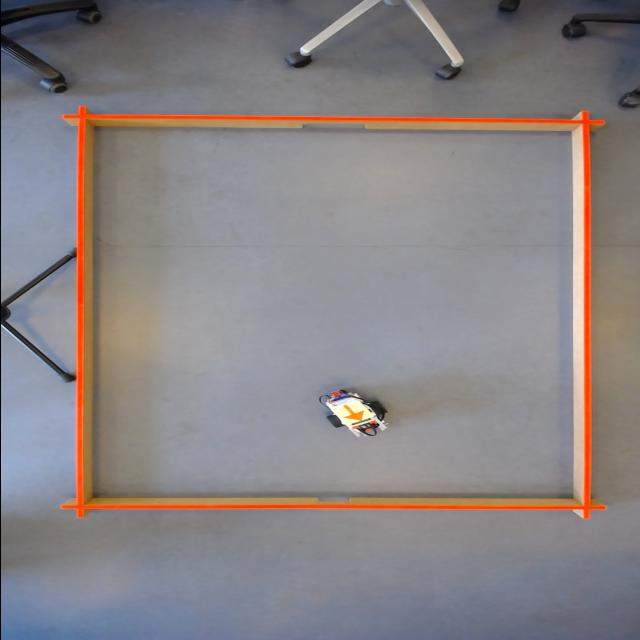robot: (327, 398, 375, 428)
